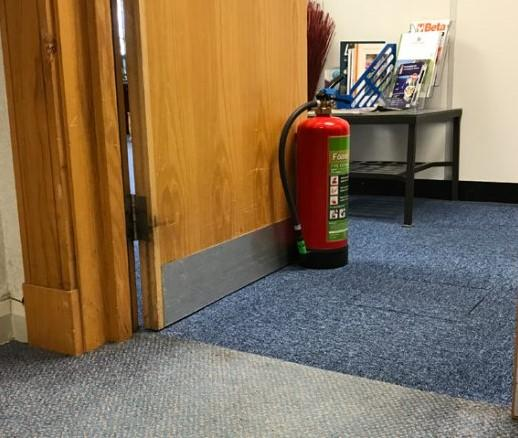floor-kept: (265, 66, 367, 273)
